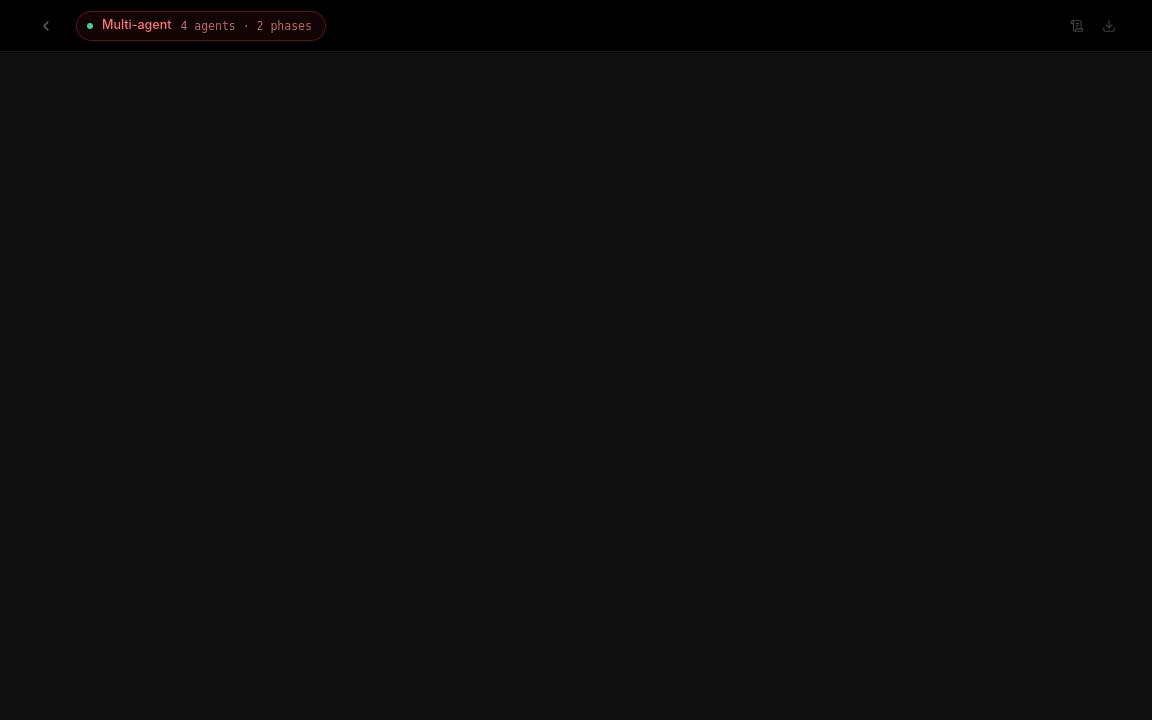
hover card placement › re-measures on window resize: a narrow window caps the width at 100vw − 24px
The width and height of the screenshot is (1152, 720).
Hover over the element showing "Multi-agent 4 agents · 2 phases".
mouse_move(201, 26)  # box [76,10,326,40]
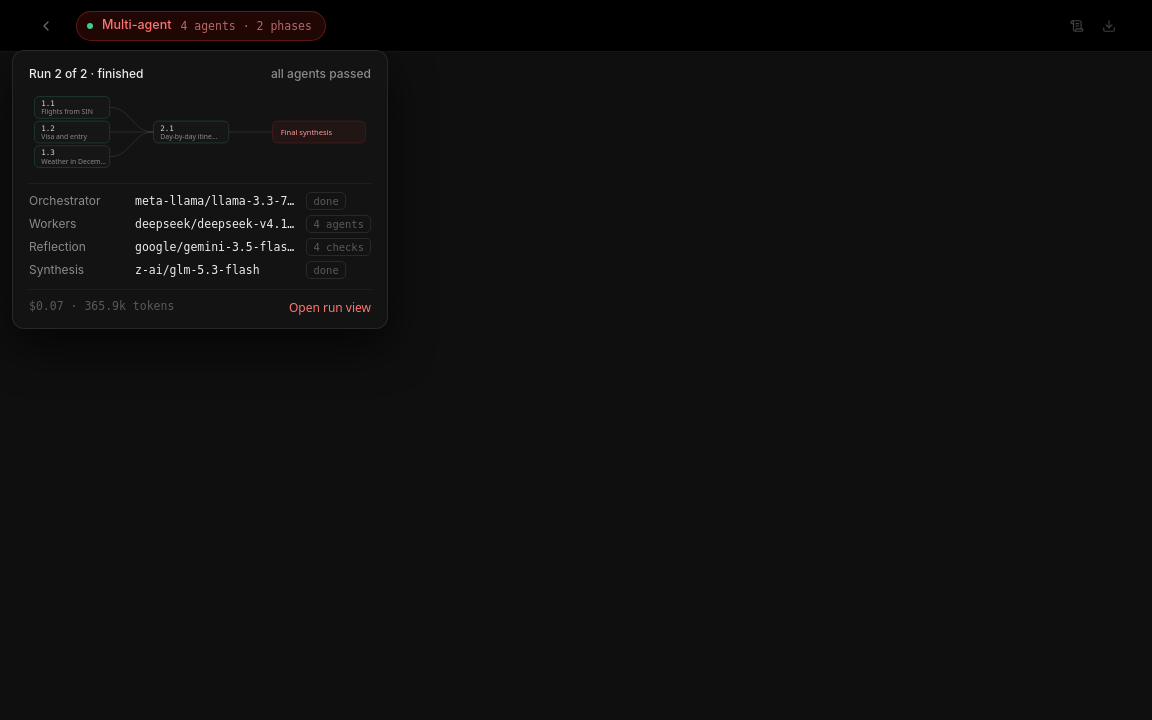
Check: the button "Open run view" is shown, box [289,299,371,316]
